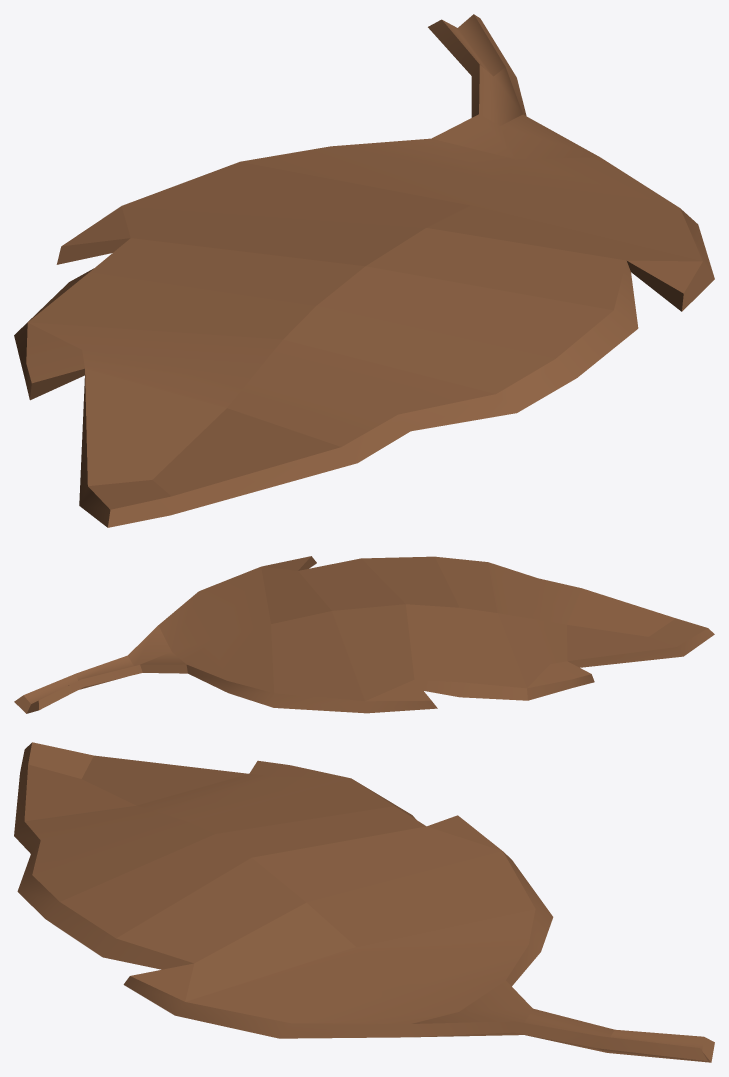
File: leaf_02_low.fbx
The picture shows the model from 3 angles, top to bottom: view 1: azimuth 30°, elevation 25°; view 2: azimuth 150°, elevation 25°; view 3: azimuth 270°, elevation 25°; orthographic projection. The views are drawn at different scales.
Parts seen in each view (by area): view 1: leaf_02_lod0; view 2: leaf_02_lod0; view 3: leaf_02_lod0.
Boxes of the visible parts, box(x1,y1,x2,y2) form: leaf_02_lod0: box(14, 14, 714, 527); leaf_02_lod0: box(14, 556, 714, 713); leaf_02_lod0: box(14, 742, 714, 1062).
Size of the model in its own units: 54 by 4.72 by 51.33.
